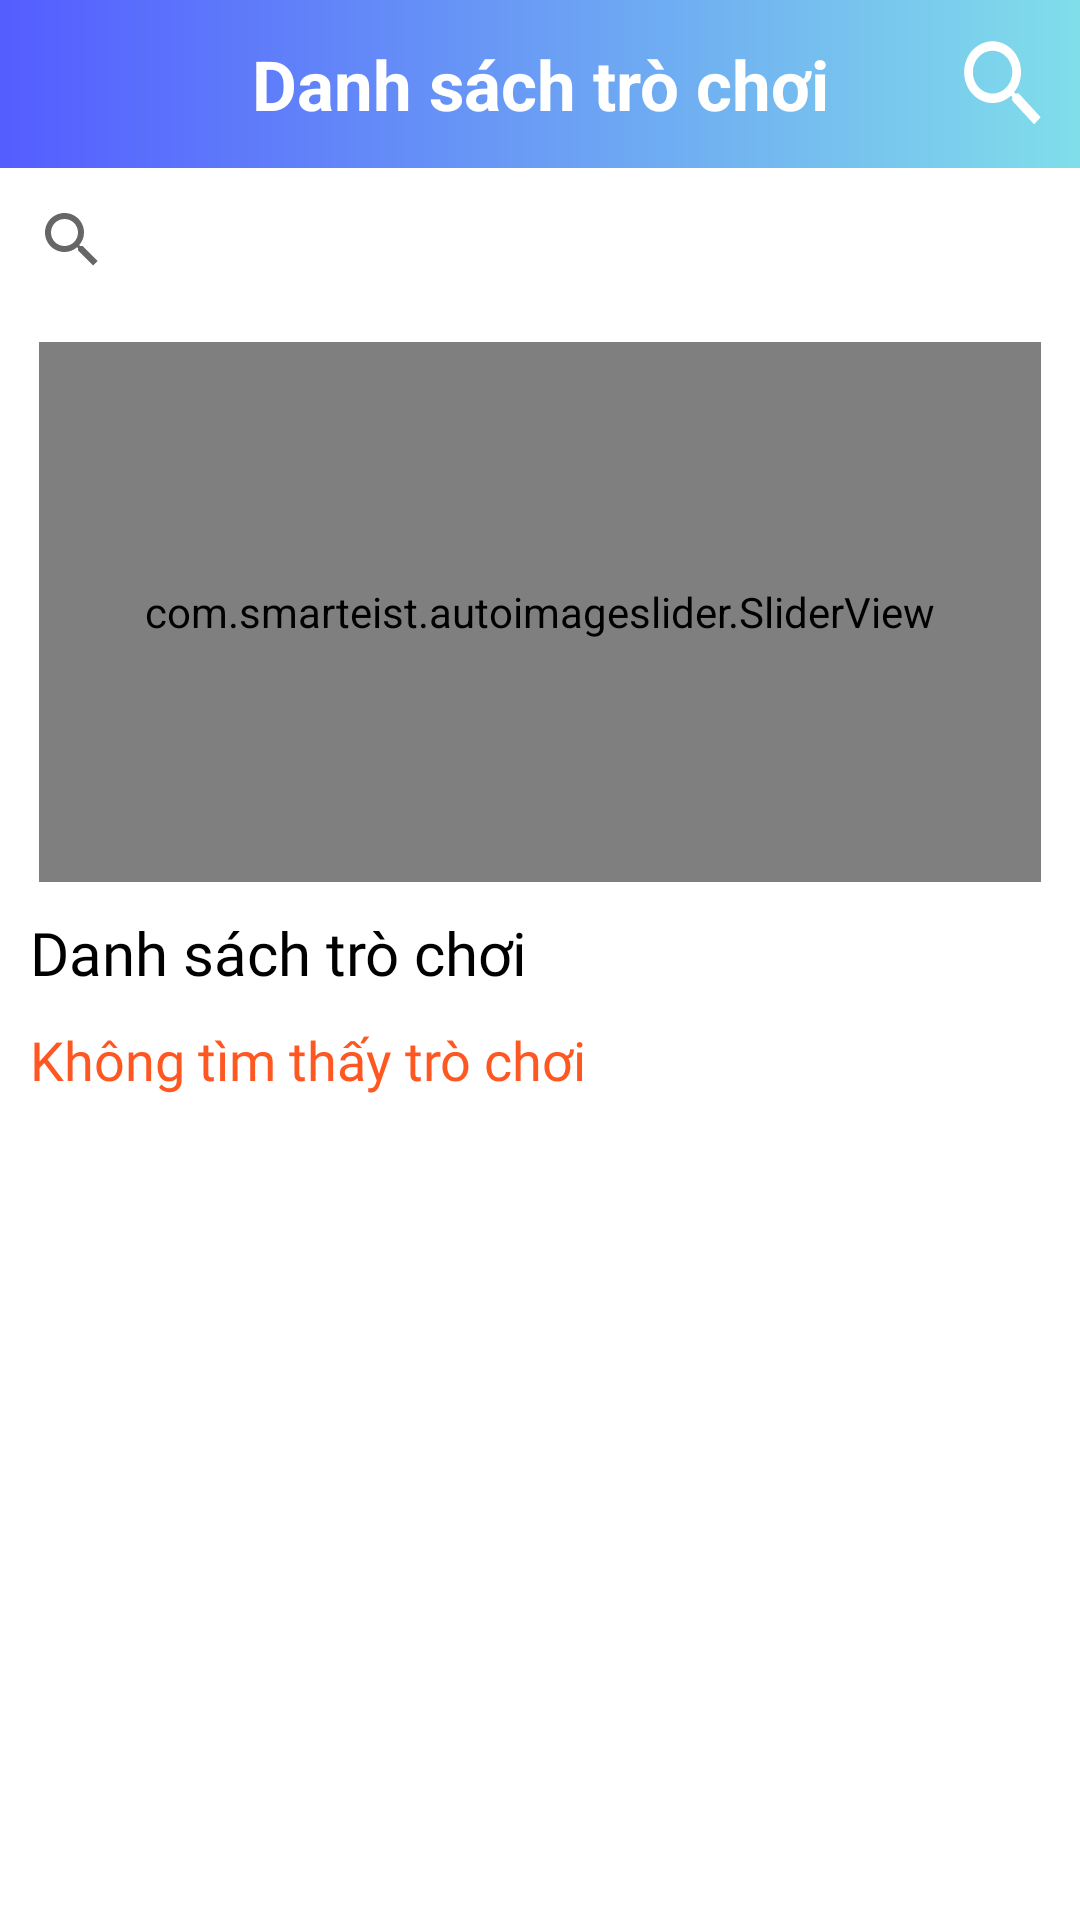

Icons on this 1080×1920 Android screen, each with the point to tap as point (x, y):
search: point (1002, 82)
